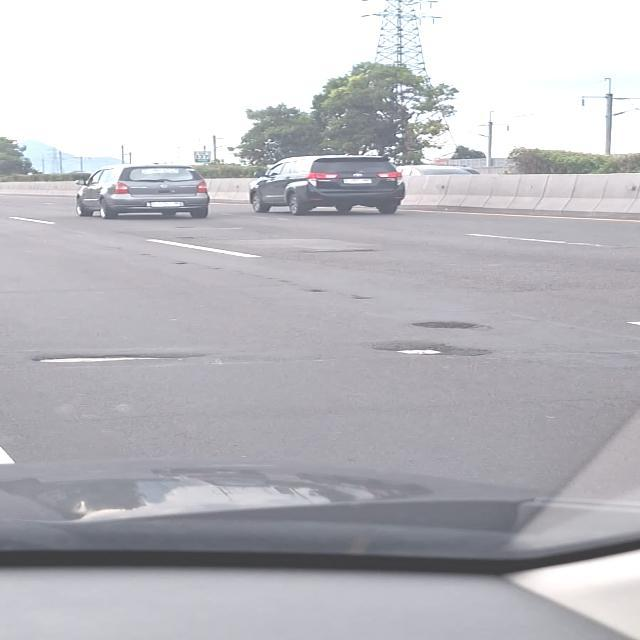Buraco: (28, 352, 208, 364), (371, 342, 492, 359), (409, 320, 495, 332)
